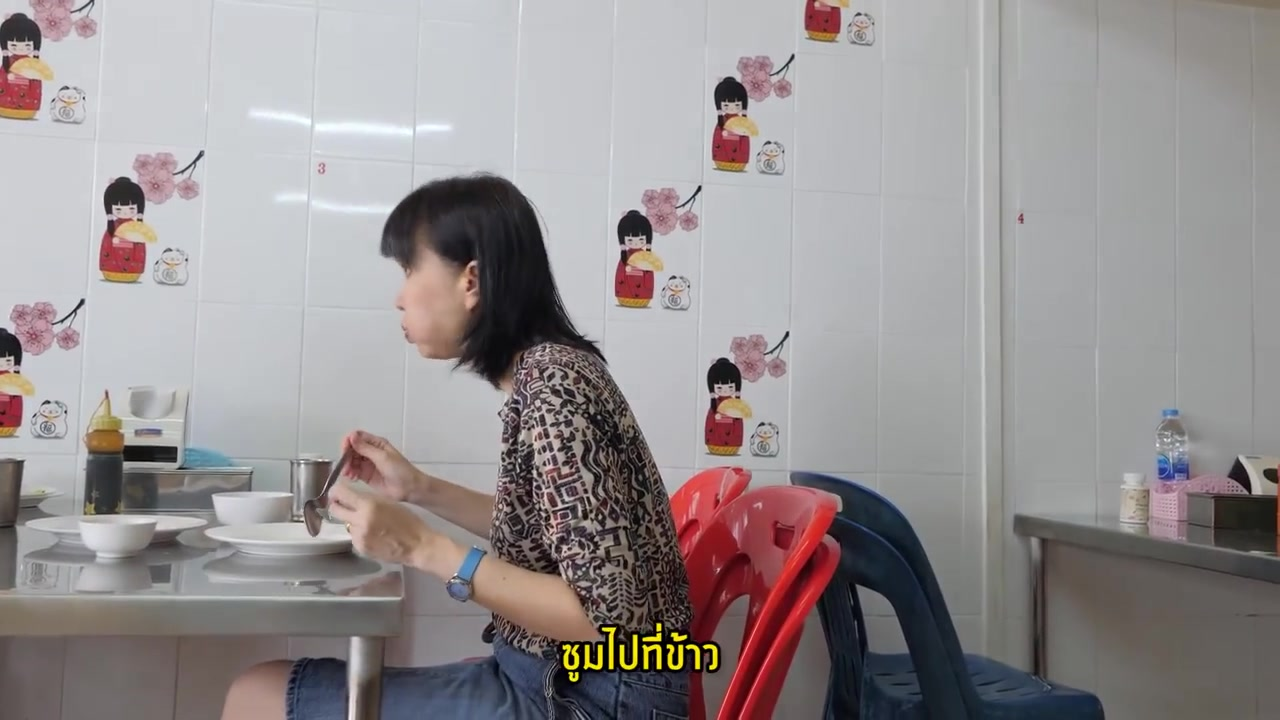text-label: (557, 621, 726, 685)
